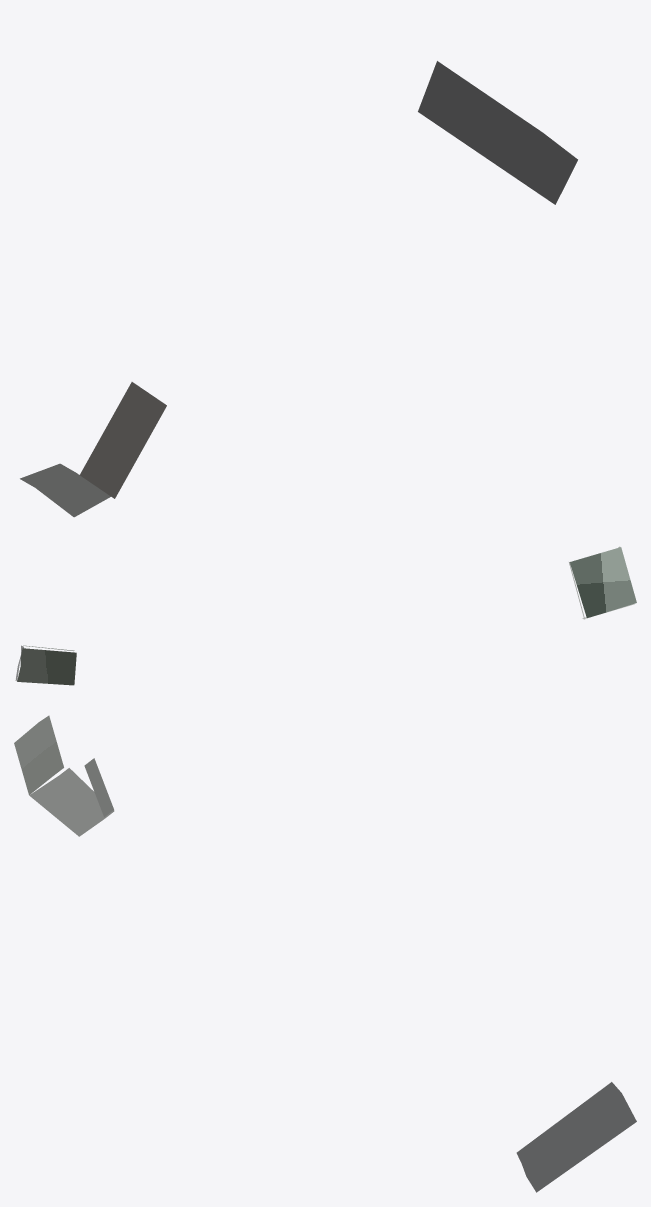
File: tile_LOD3_r5_c5.glb
The picture shows the model from 3 angles, top to bottom: view 1: azimuth 30°, elevation 25°; view 2: azimuth 150°, elevation 25°; view 3: azimuth 270°, elevation 25°; orthographic projection. The views are drawn at different scales.
Size of the model in its own units: 76.75 by 19 by 62.
10 materials, 7 textured.
